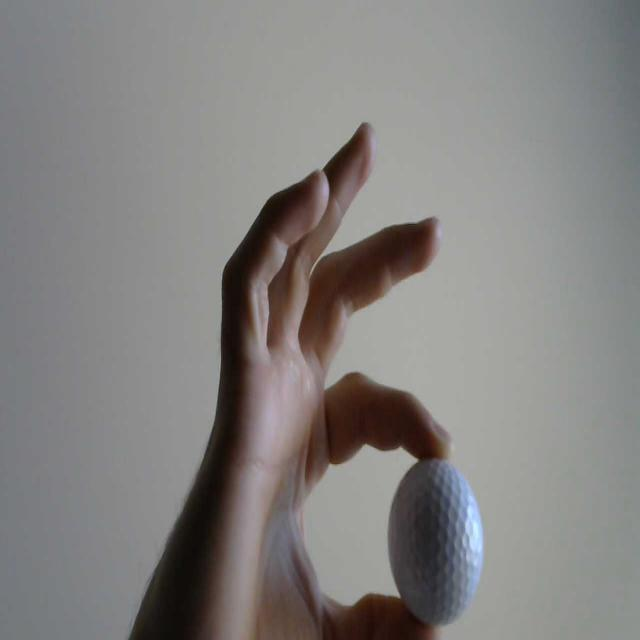golfball: (388, 453, 487, 624)
